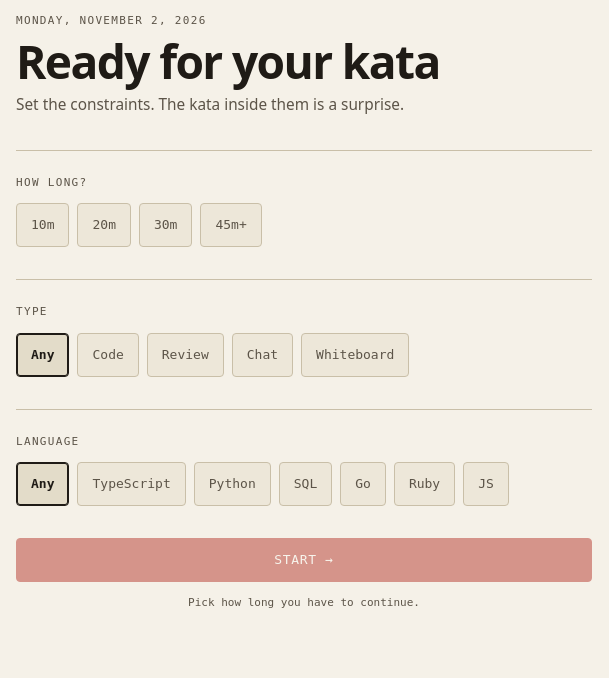
Scenario: KatasPage (Advanced) › says how to widen the filters when nothing fits, and starts nothing
Click the button "20m".
click(104, 226)  # box [78,204,131,248]
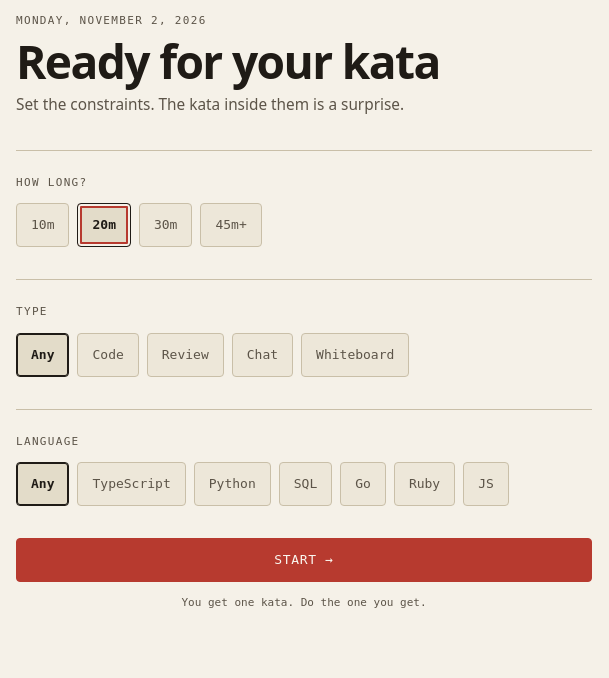
Click the button "Chat".
click(262, 355)  # box [232,333,293,377]
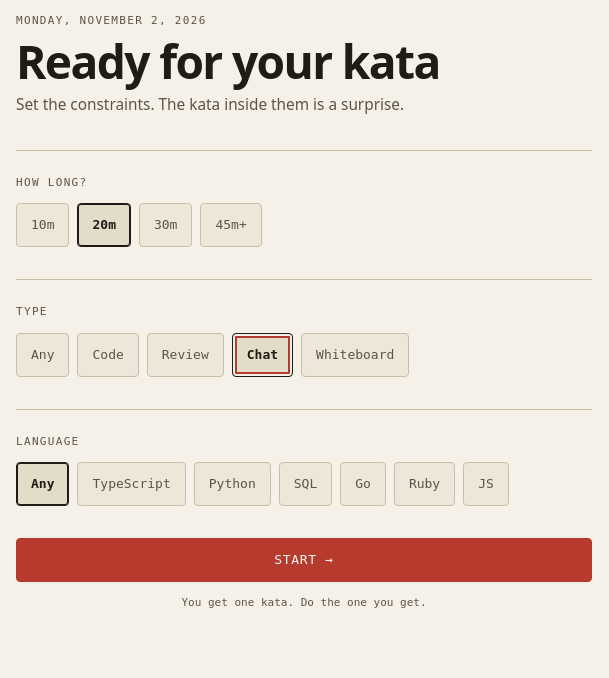
Click the button "Go".
click(363, 484)  # box [340,462,386,506]
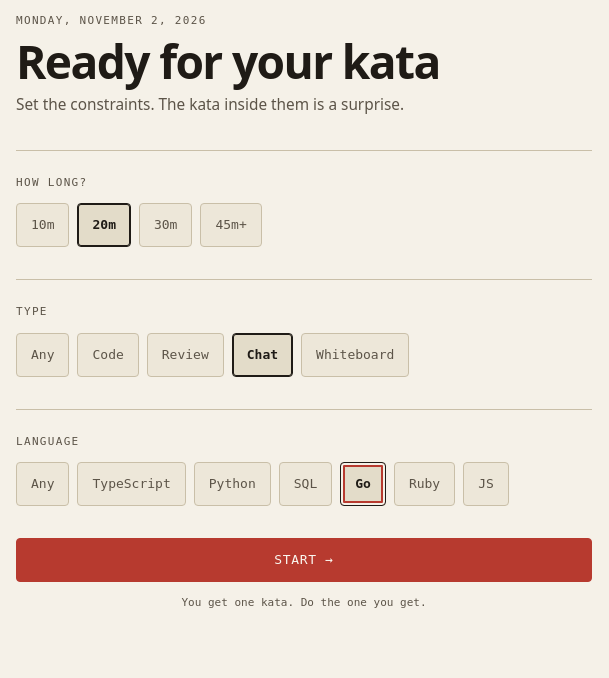
Click the button "Start →".
click(304, 560)  # box [16,538,592,582]
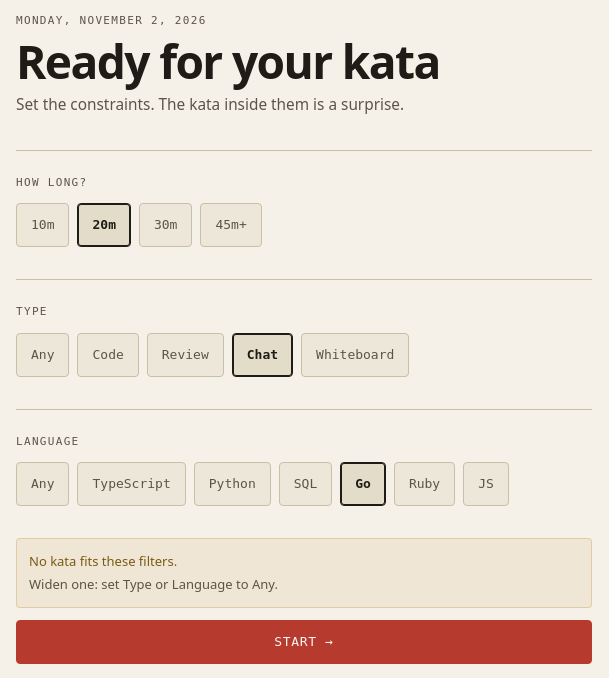
Expected: the text "No kata fits these filters." is shown, [29,552,177,570]
Expected: the text "Widen one: set Type or Language to Any." is shown, [29,576,278,594]
Click the 2nd button "Any".
click(43, 484)  # box [16,462,70,506]
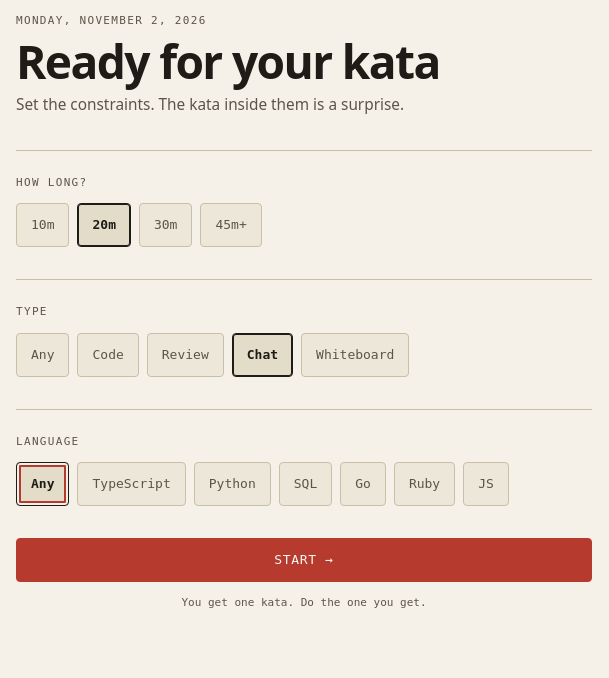
Expected: the text "No kata fits these filters." is gone
